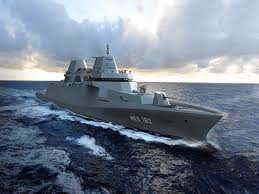tau_muctieu: (46, 55, 222, 144)
